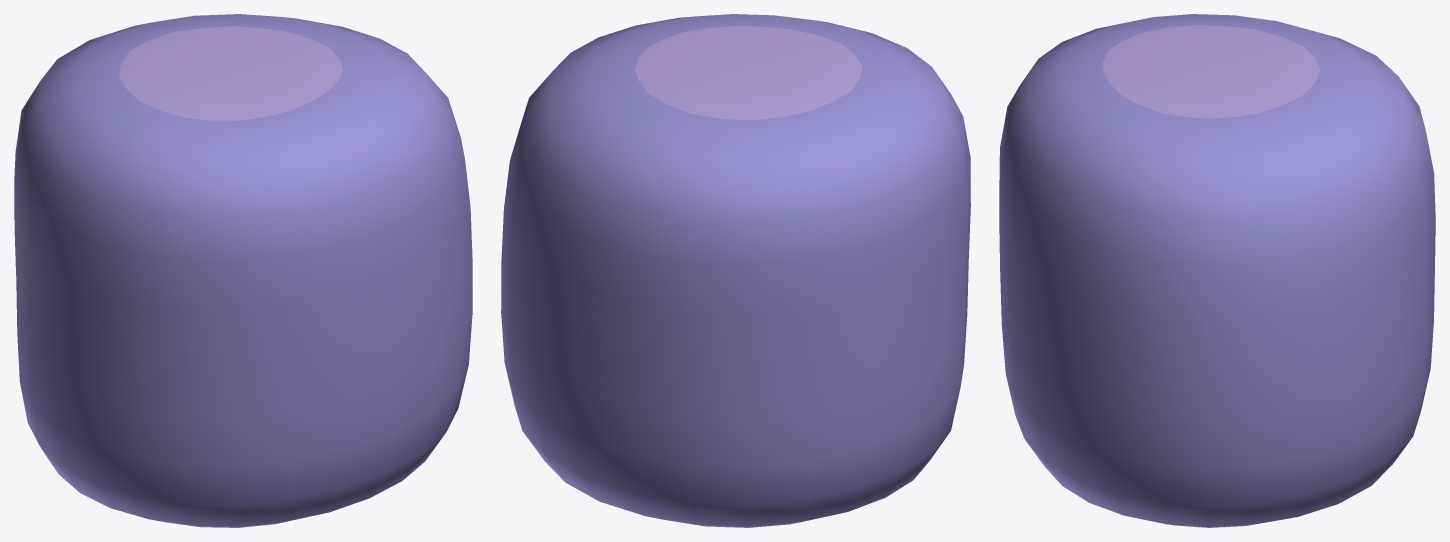
File: Marshmallow_B_03.fbx
3 renders of one model, left to right at view 1: azimuth 30°, elevation 25°; view 2: azimuth 150°, elevation 25°; view 3: azimuth 270°, elevation 25°, orthographic. The views are drawn at different scales.
Parts seen in each view (by area): view 1: Marshmallow_B_03_LOD0; view 2: Marshmallow_B_03_LOD0; view 3: Marshmallow_B_03_LOD0.
Part boxes in pixels (x1,y1,x2,y2): Marshmallow_B_03_LOD0: (14,14,472,527); Marshmallow_B_03_LOD0: (501,14,970,527); Marshmallow_B_03_LOD0: (999,14,1435,527).
Size of what is drawn, in the model's own units: 393 by 373 by 372.
